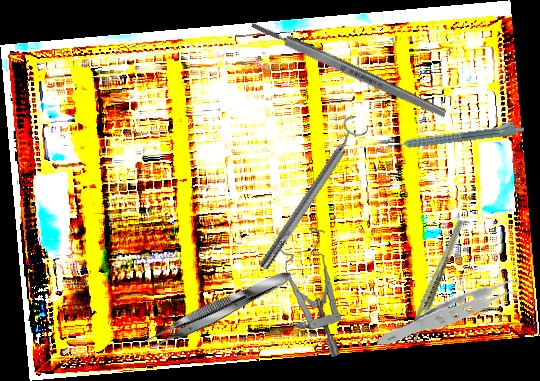Fixation Ring: (250, 112, 373, 275)
Handpiece: (386, 118, 525, 152)
Scalpel Handle: (249, 18, 448, 121)
Speculum: (266, 224, 351, 358)
Tissue Forceps: (377, 260, 536, 369), (141, 264, 297, 356), (386, 217, 486, 347)
